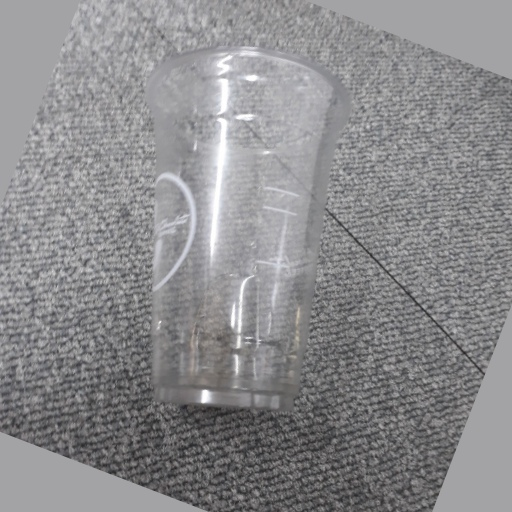Plastic_2: (138, 41, 345, 409)
